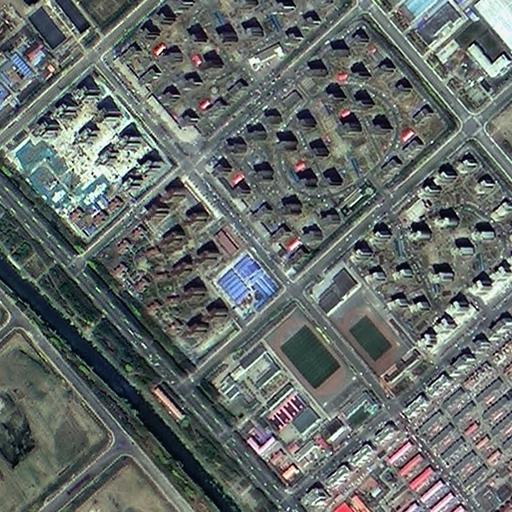school: (195, 299, 381, 488), (331, 290, 430, 401)
